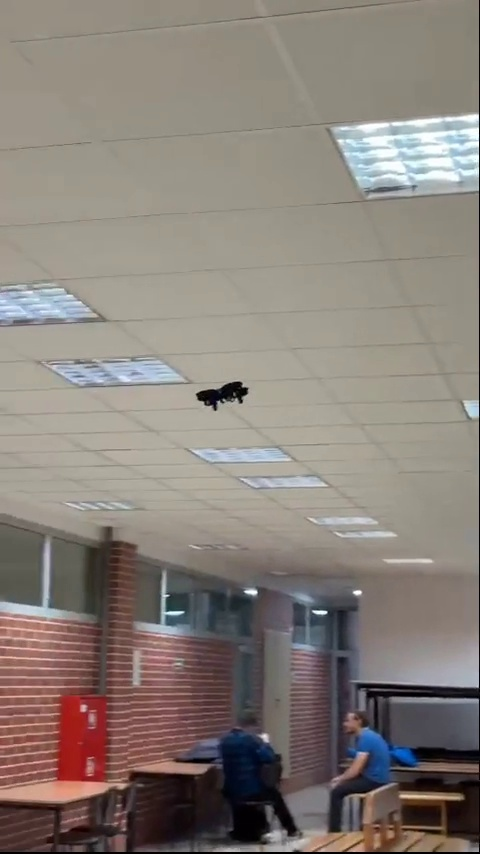drone: (194, 379, 250, 411)
no vest: (214, 707, 292, 810), (335, 709, 401, 809)
